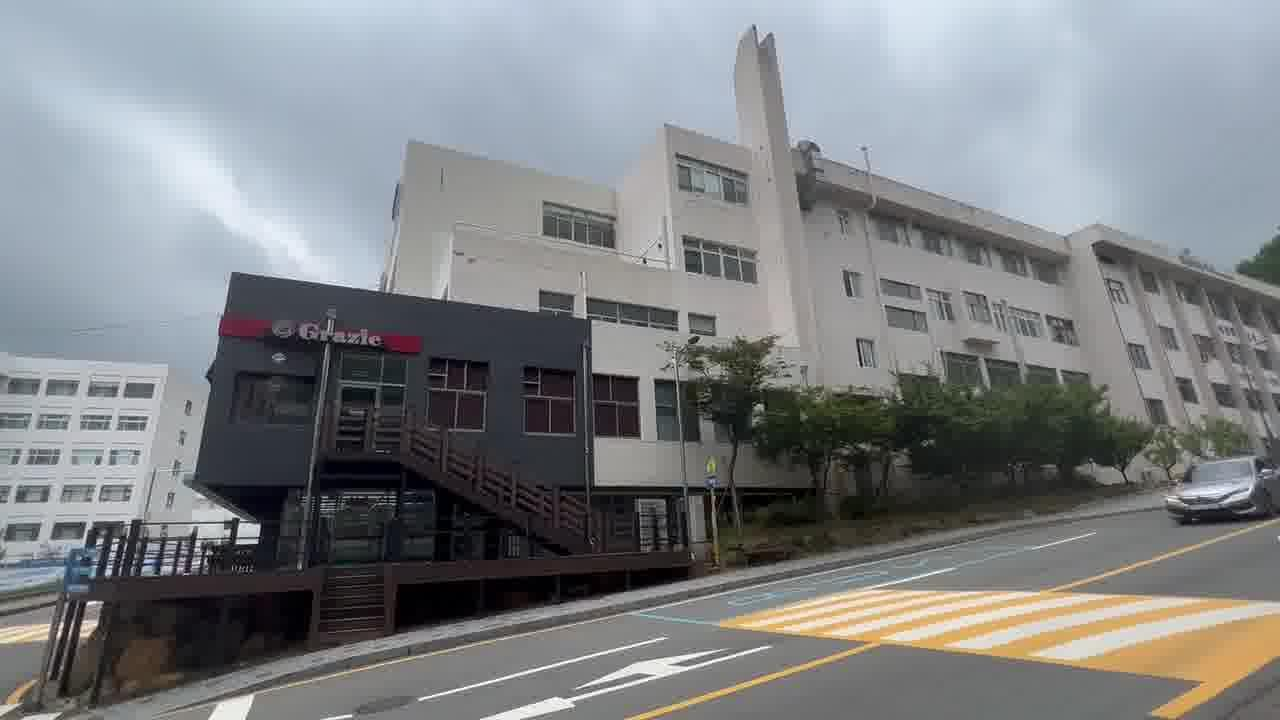building: (206, 114, 722, 567)
